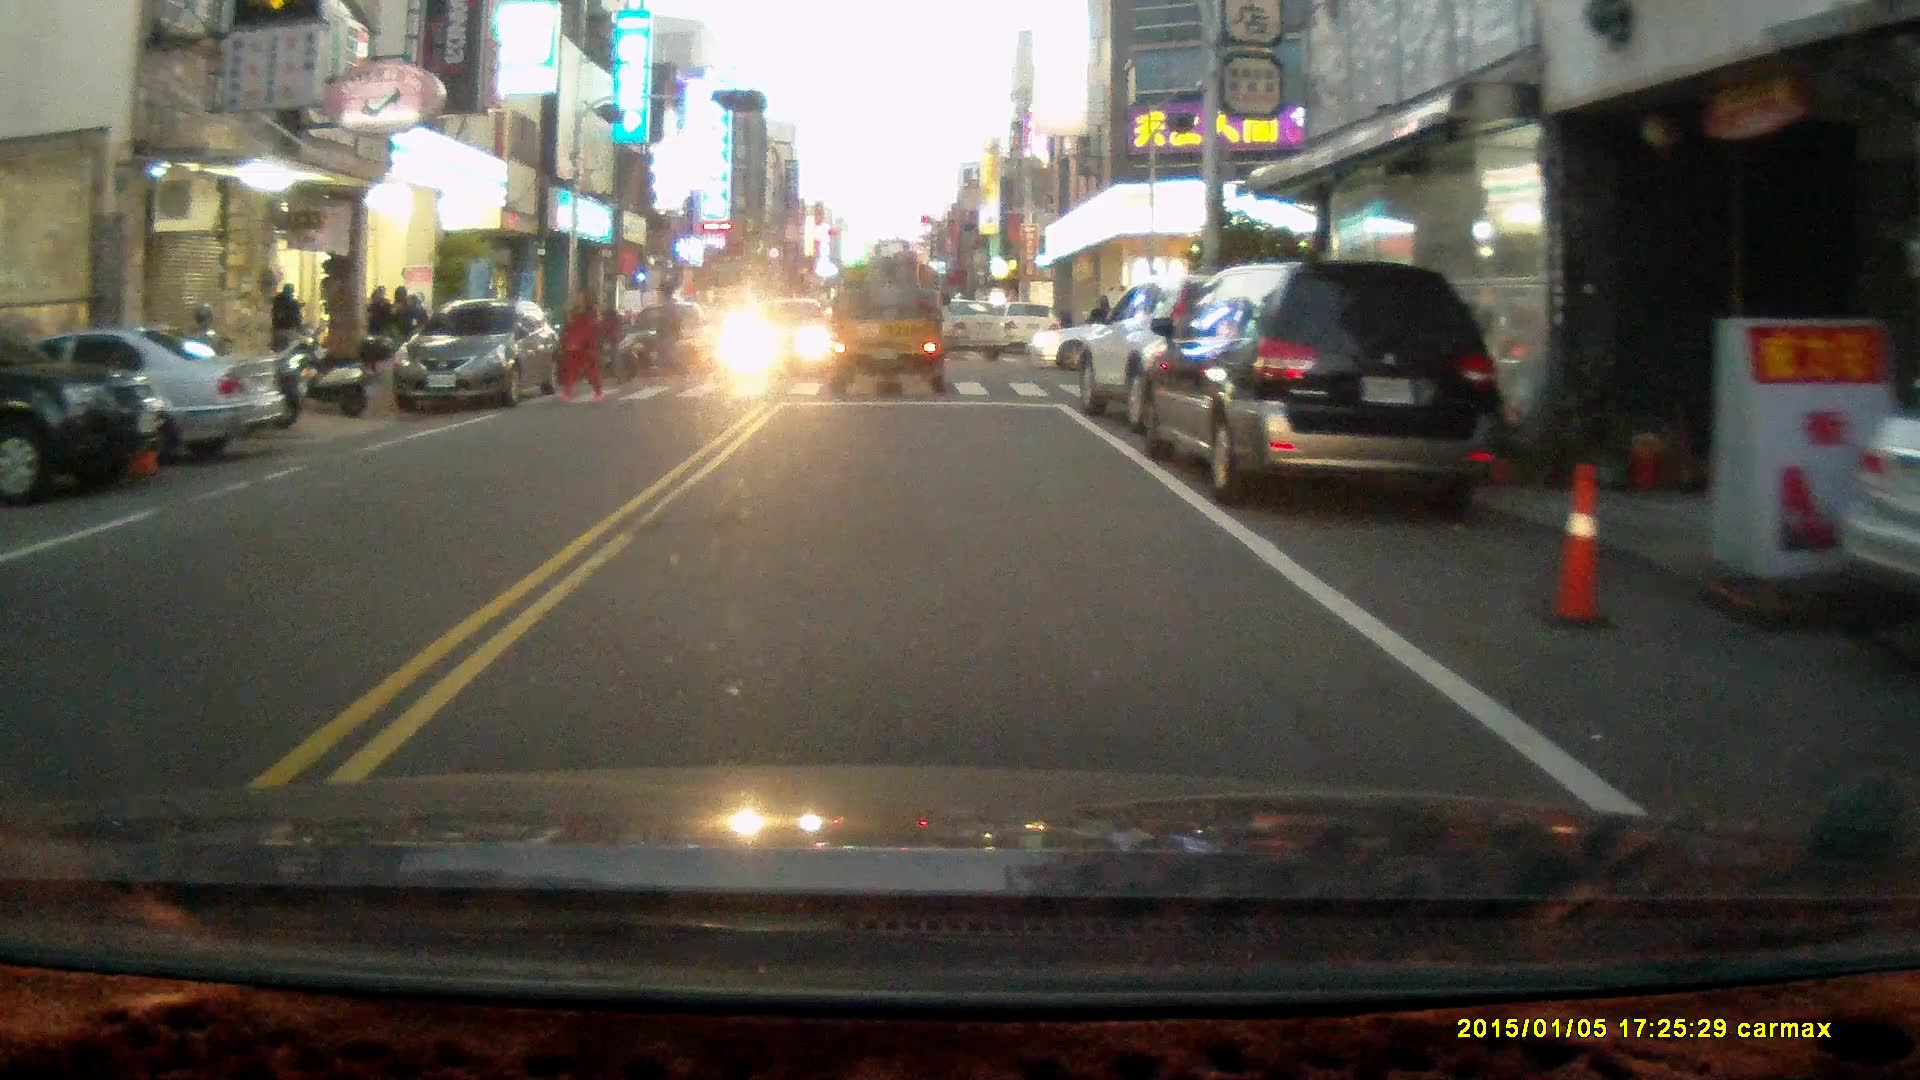pedestrian: (556, 283, 606, 401), (645, 279, 691, 384), (268, 278, 305, 370)
vehicle: (1136, 256, 1506, 502), (1, 326, 302, 471), (1073, 274, 1335, 433), (1, 319, 170, 502), (819, 233, 957, 392), (394, 297, 565, 410), (720, 289, 826, 364), (893, 300, 1013, 364), (617, 302, 717, 375)
